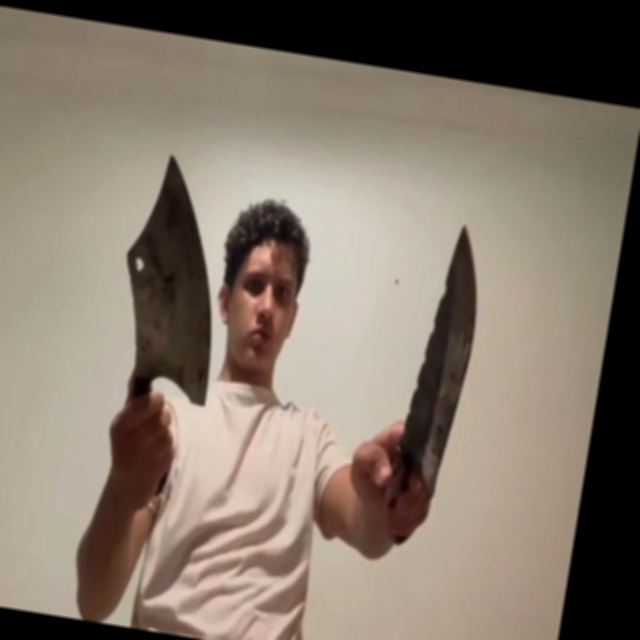Sharp-Object: (102, 149, 242, 405), (390, 221, 494, 499)
